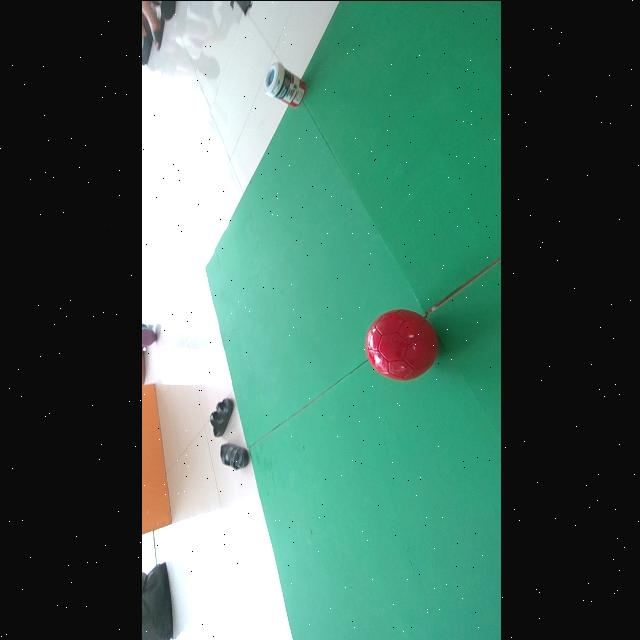P: (140, 327, 154, 346)
R: (363, 309, 437, 380)
